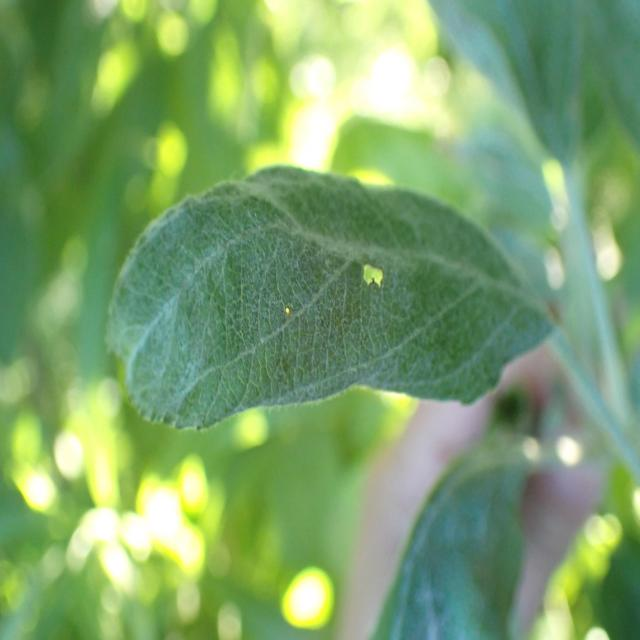Powdery_mildew: (115, 158, 560, 431)
